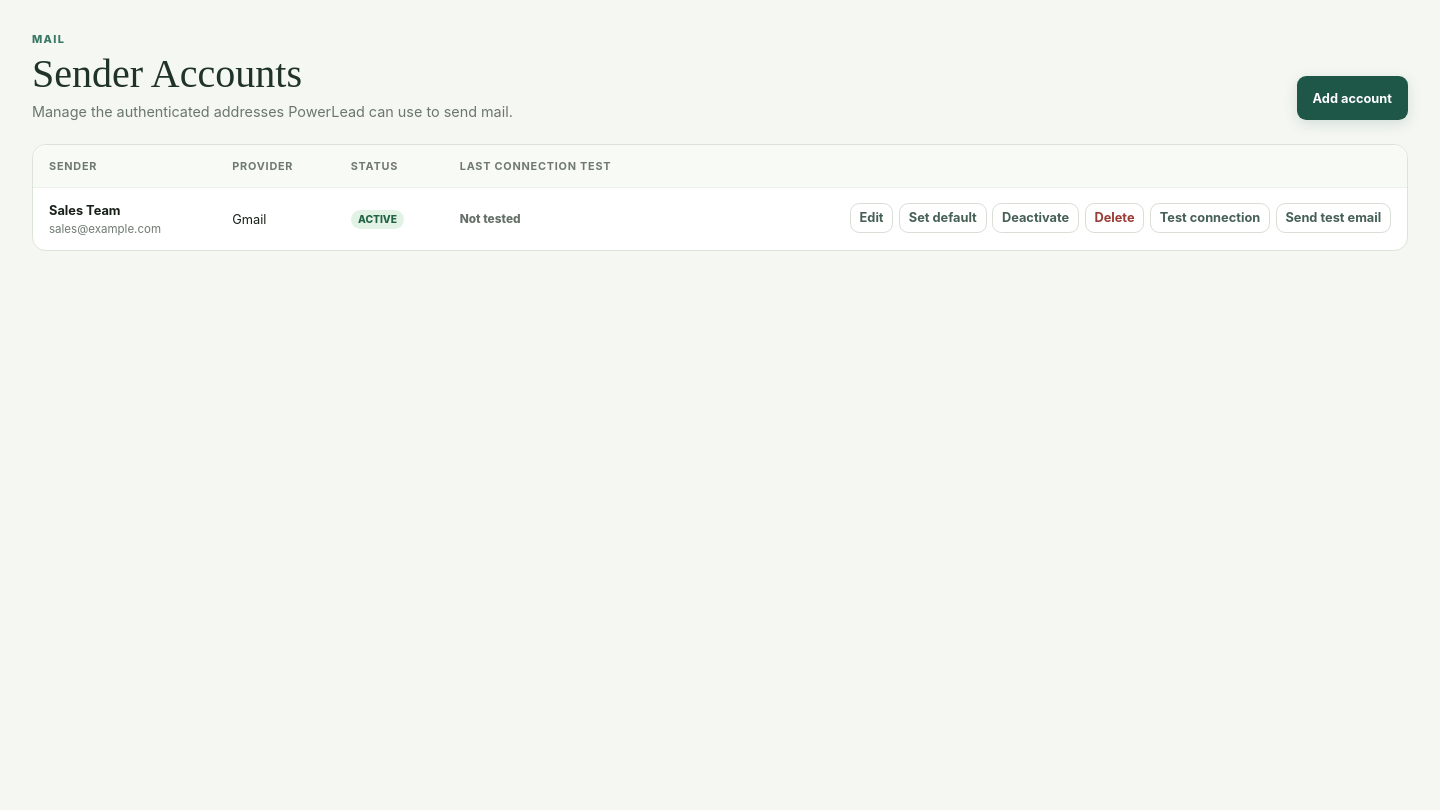
it: SenderAccountsComponent › keeps the create form open and cleared after Save & Add Another
The image size is (1440, 810).
Click the button "Add account" at (1352, 98), box [1297,76,1408,120]
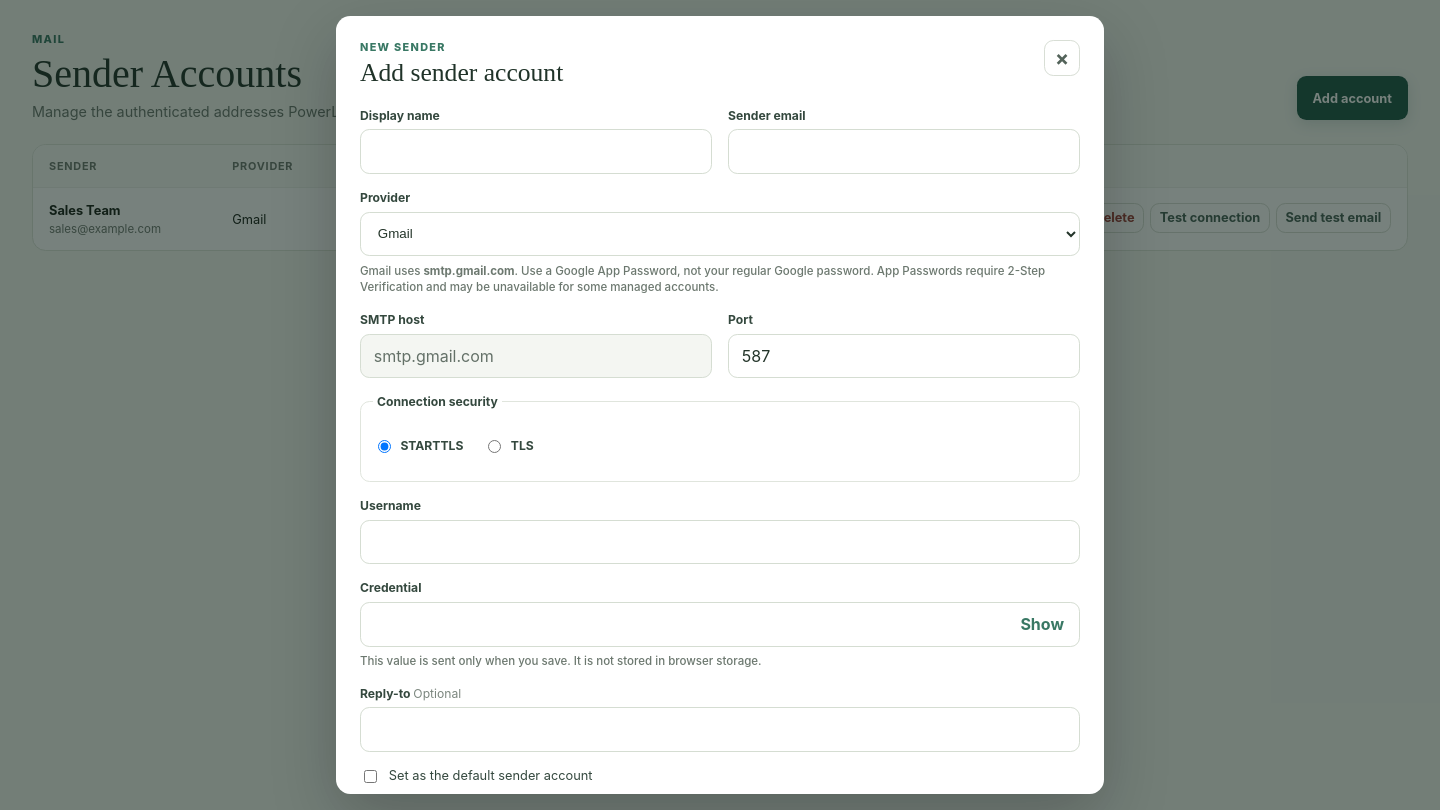
Type "First Sender" into the field with id "sender-display-name" at (536, 152), box [360,129,712,174]
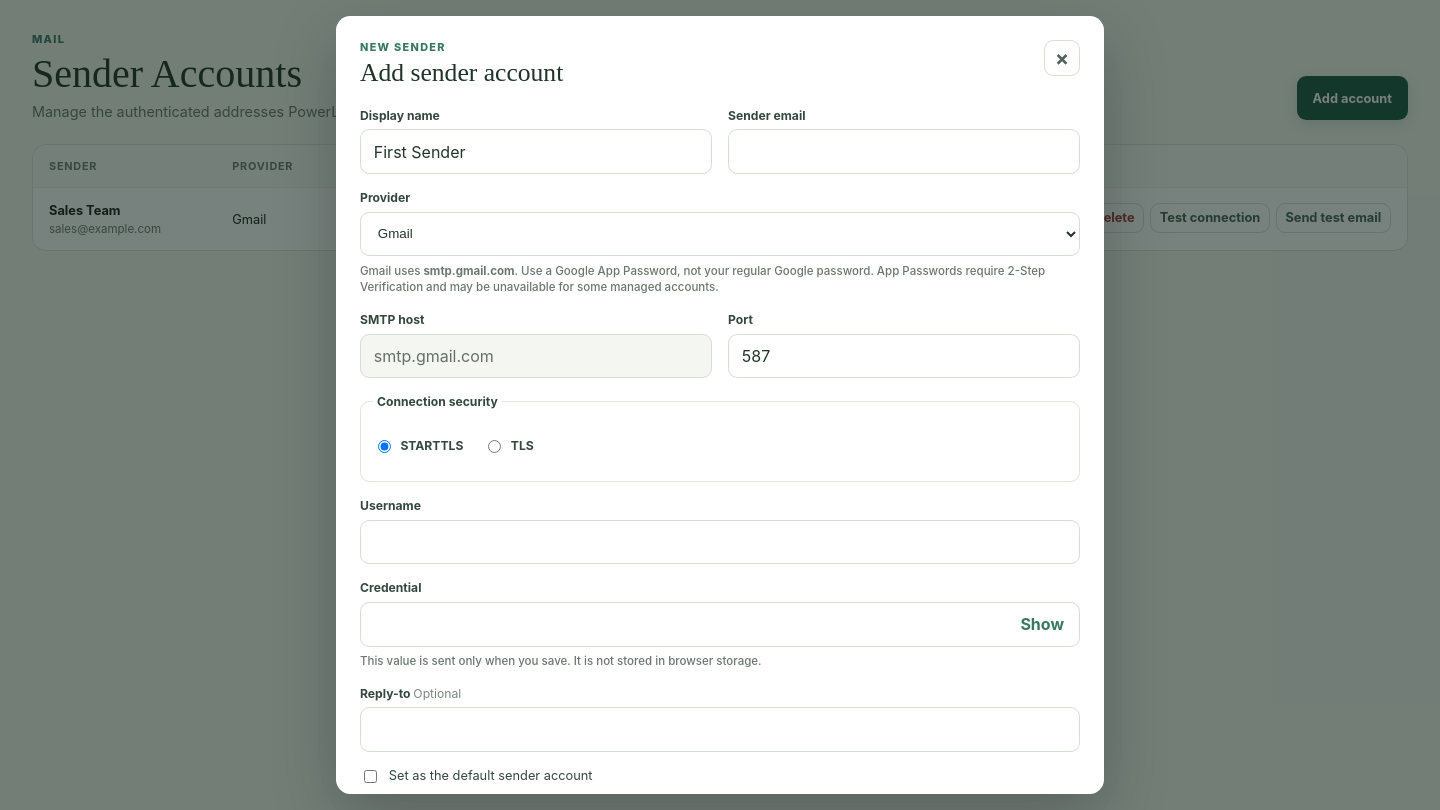
Type "first@example.com" into the field with id "sender-email" at (904, 152), box [728,129,1080,174]
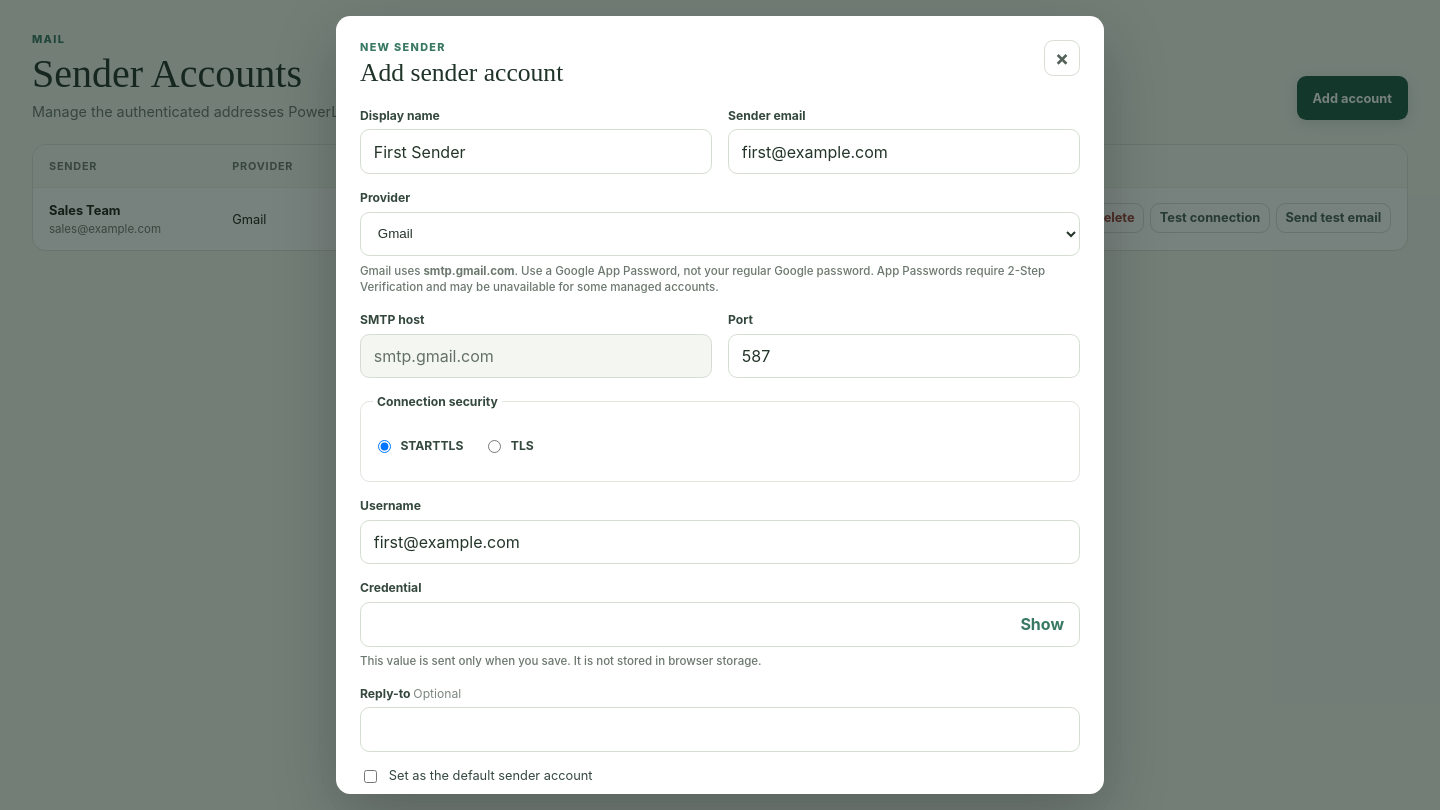
Type "new-secret" into the password field with id "smtp-credential" at (720, 624), box [360,602,1080,646]
(page scrolled)
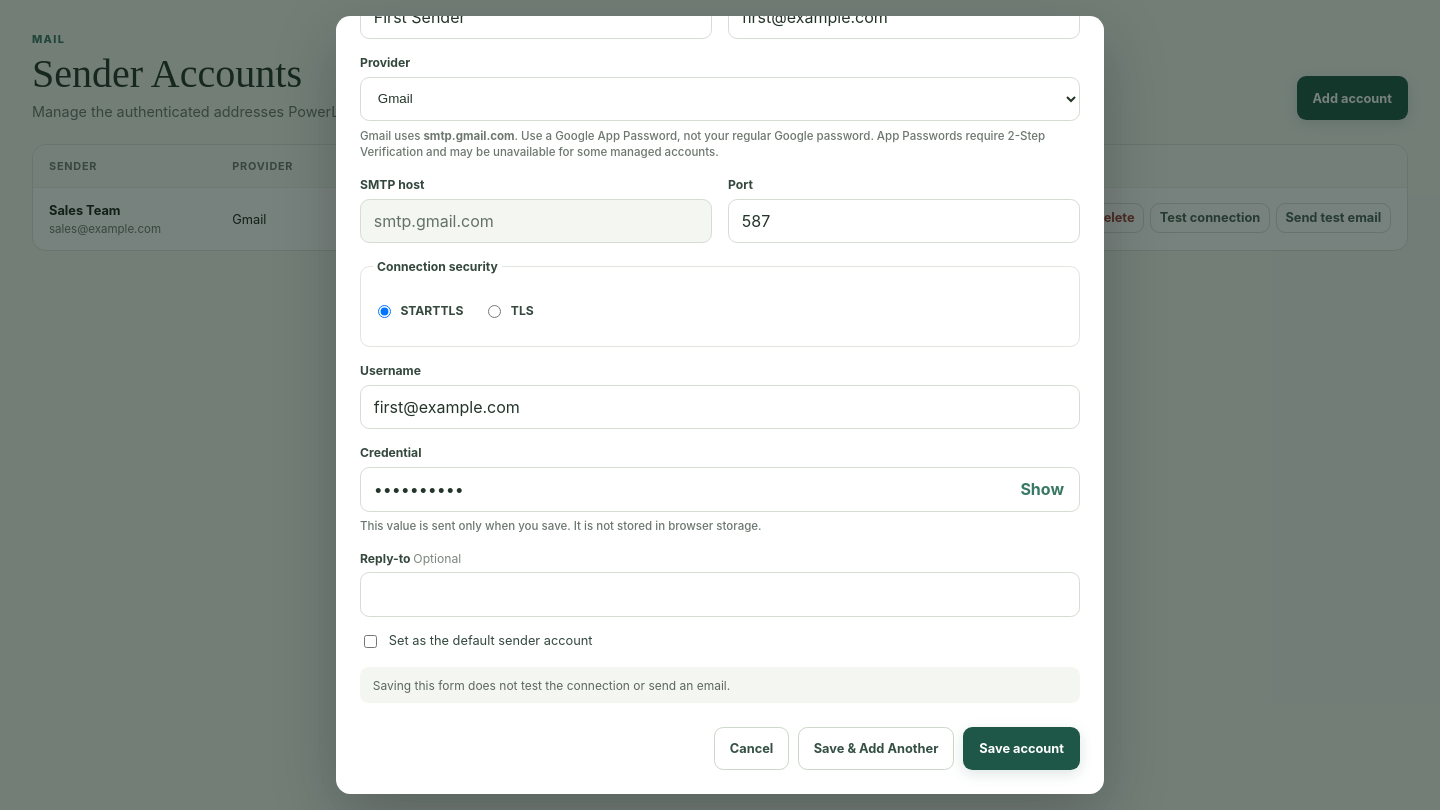
expect the button "Save & Add Another" is shown: met
Click the button "Save & Add Another" at (876, 748), box [798,727,954,770]
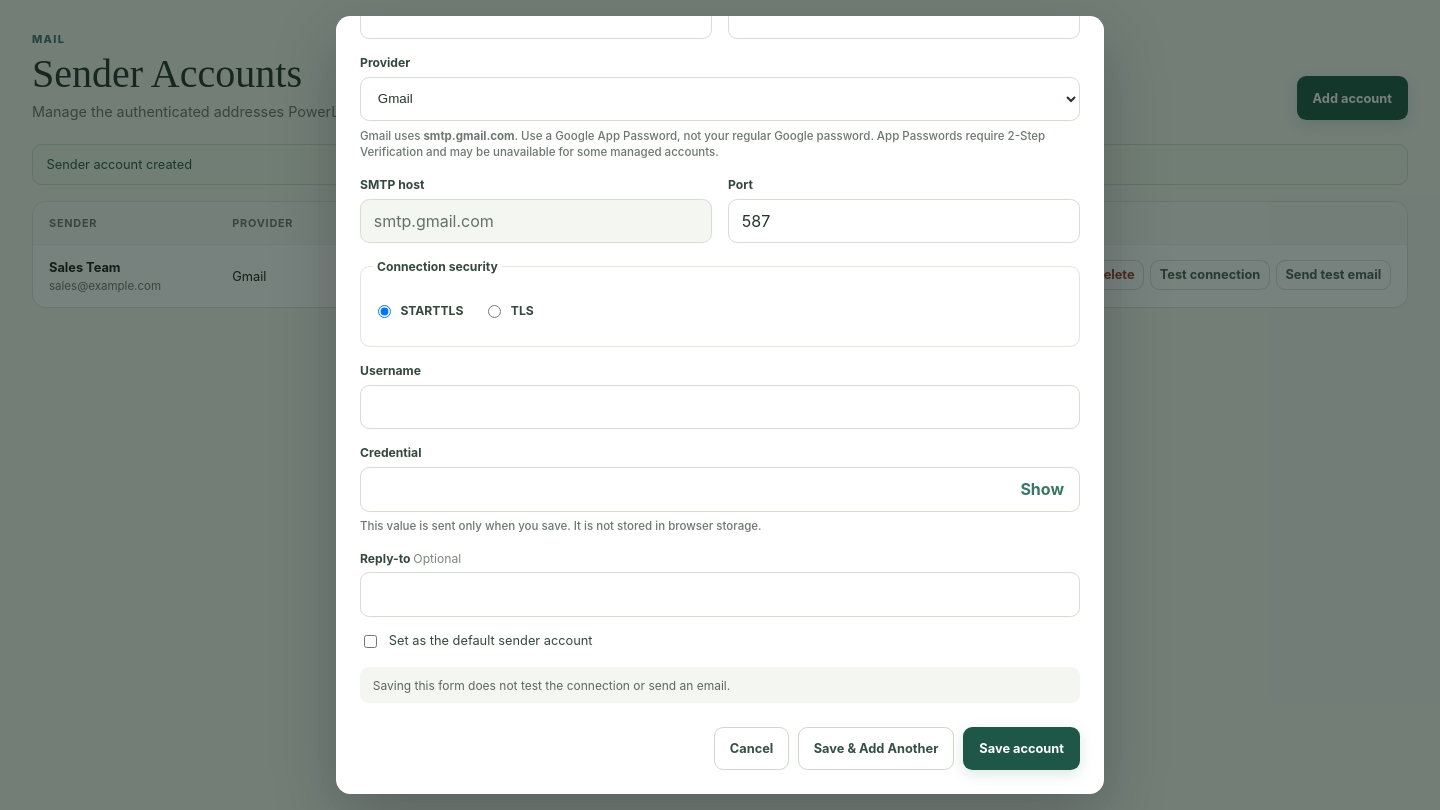
expect the dialog with class "editor-modal" is shown: met, box [336,16,1104,794]
expect the password field with id "smtp-credential" is empty: met, box [360,467,1080,512]
